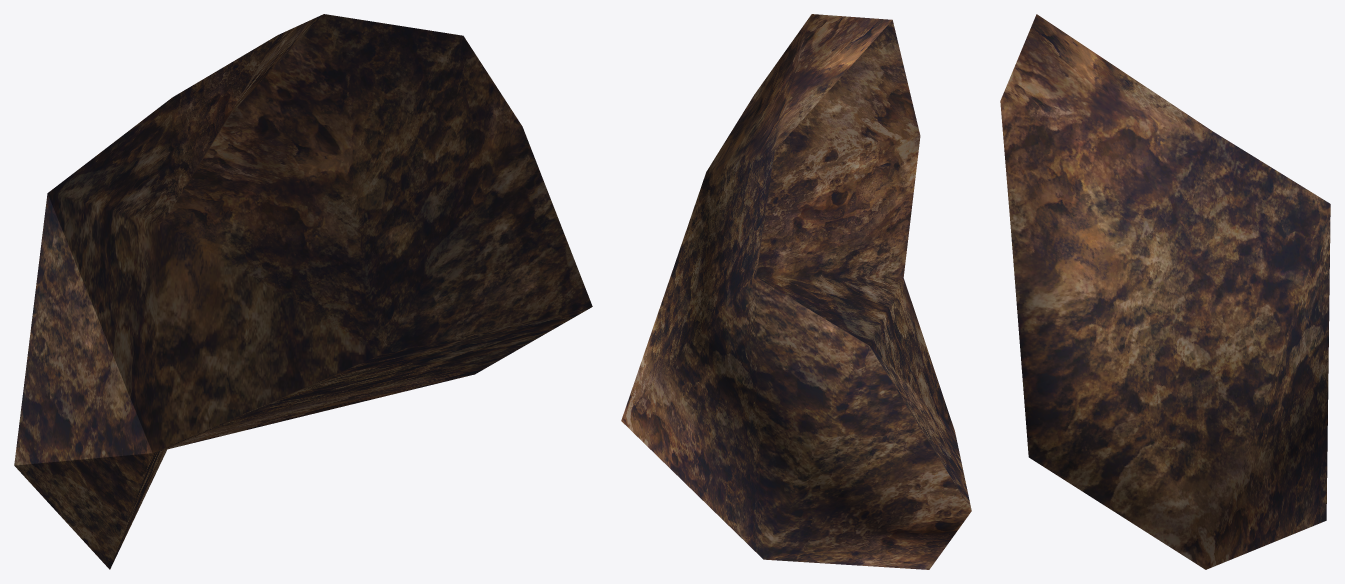
The model's file is stg600_obj_meteoriteA_bp2.obj.
3 views of the same model, side by side, from view 1: azimuth 30°, elevation 25°; view 2: azimuth 150°, elevation 25°; view 3: azimuth 270°, elevation 25° (orthographic). The views are drawn at different scales.
Parts seen in each view (by area): view 1: polygon1; view 2: polygon0, polygon1; view 3: polygon0.
Part boxes in pixels (box(x1,y1,x2,y2)): polygon1: box(14, 14, 592, 569); polygon0: box(621, 14, 971, 569); polygon1: box(756, 20, 971, 510); polygon0: box(1000, 14, 1330, 569).
Bounding box in the file's own units: 22.49 × 26.9 × 14.98.
2 materials, 2 textured.
